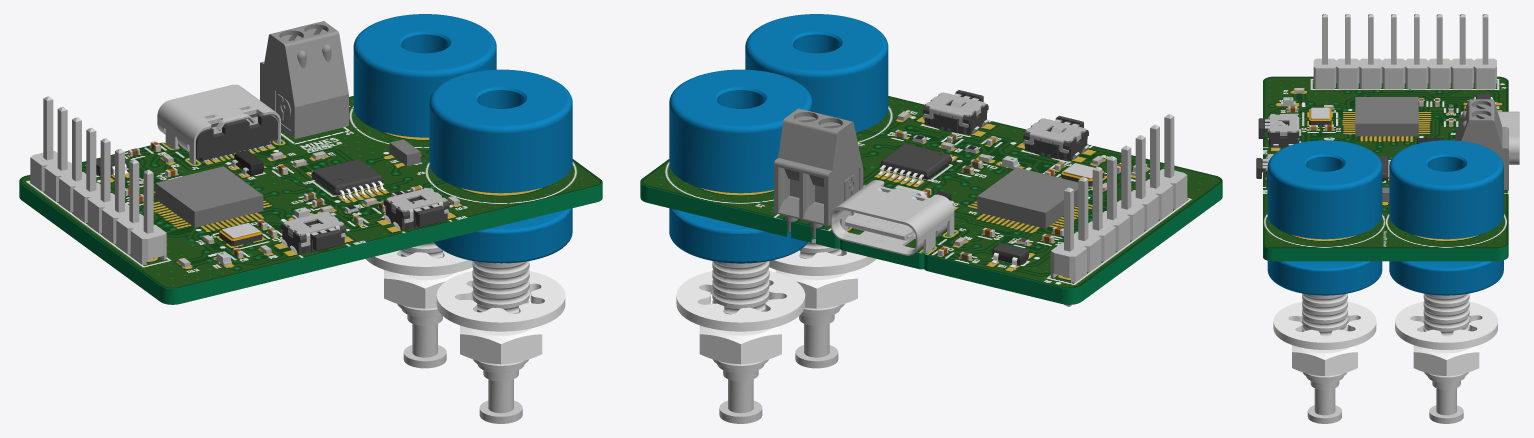
File: trd-1.glb
3 renders of one model, left to right at view 1: azimuth 30°, elevation 25°; view 2: azimuth 150°, elevation 25°; view 3: azimuth 270°, elevation 25°, orthographic. The views are drawn at different scales.
Parts seen in each view (by area): view 1: 0.000,0.240,0.080, board-top; view 2: 0.000,0.240,0.080, board-top; view 3: 0.000,0.240,0.080, board-top.
Part boxes in pixels (x1,y1,x2,y2): 0.000,0.240,0.080: [19, 14, 602, 423]; board-top: [19, 96, 602, 288]; 0.000,0.240,0.080: [640, 14, 1222, 423]; board-top: [640, 96, 1222, 288]; 0.000,0.240,0.080: [1256, 14, 1519, 423]; board-top: [1263, 76, 1508, 248].
Bounding box in the file's own units: 0.045 × 0.0328 × 0.0291.
3 materials, 3 textured.
